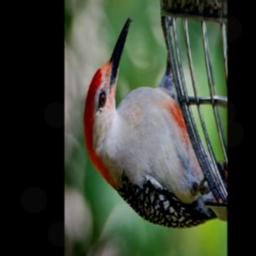Woodpecker: (83, 17, 226, 230)
